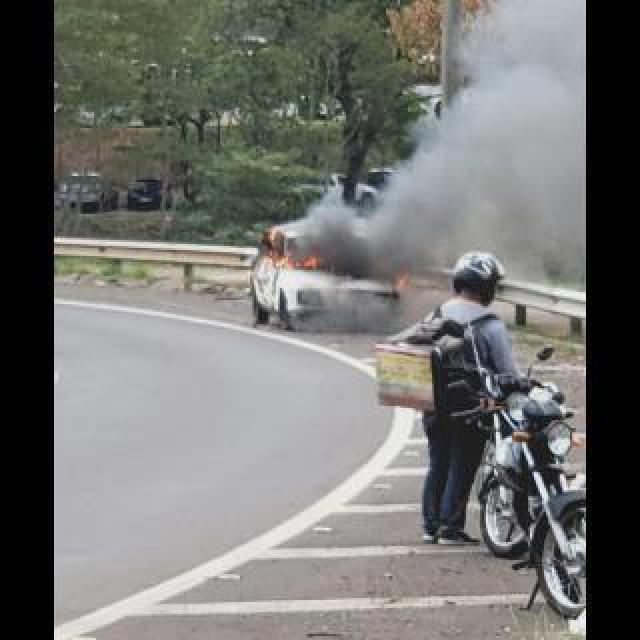Fire: (282, 250, 324, 266), (398, 270, 414, 288)
Smoke: (289, 0, 587, 267)
